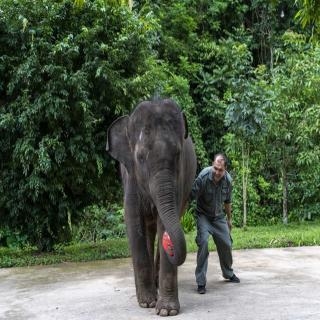Elephant: (104, 95, 203, 320)
